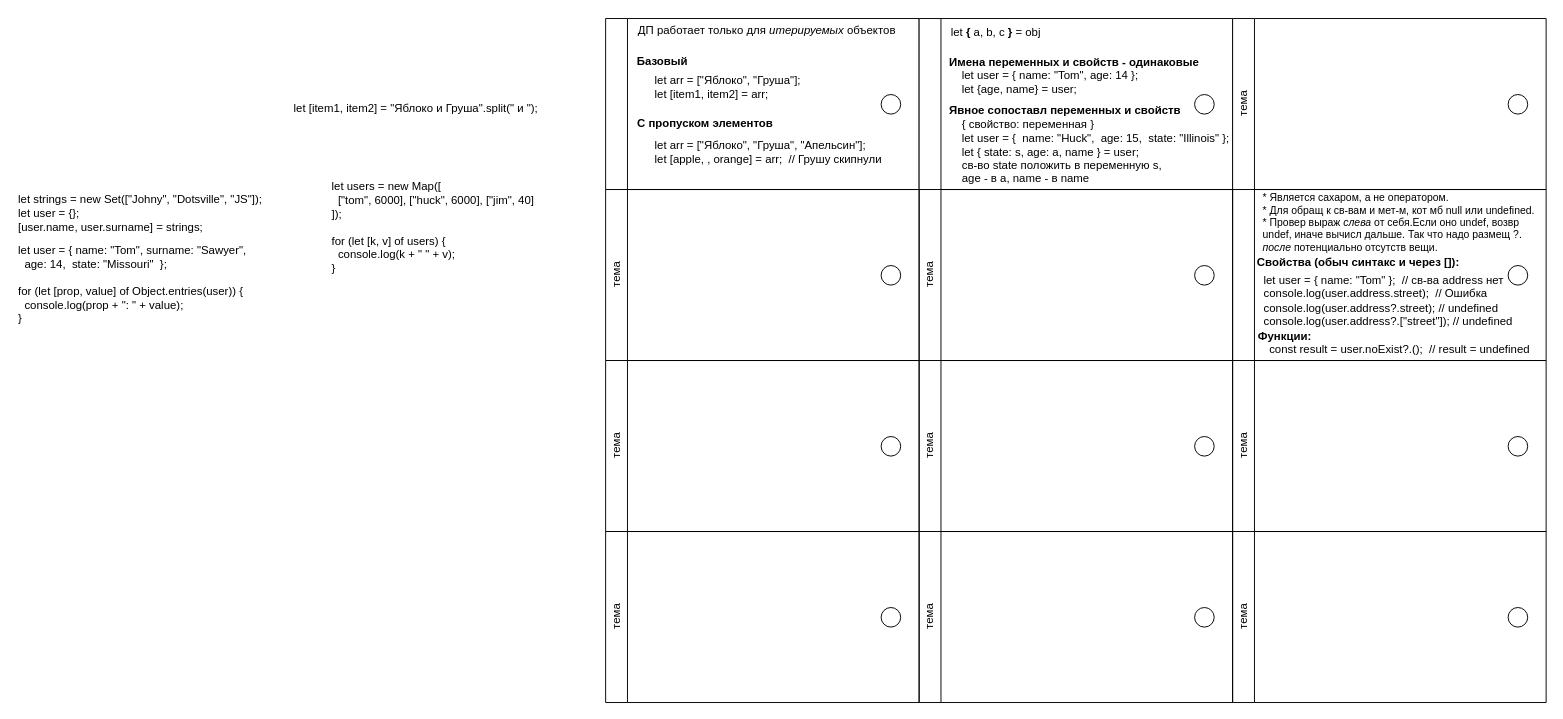
This 1563x719 diagram has some shape labels left out. Each missing label, with the box of its shape:
?. опциональная цепочка: (1232, 189, 1546, 361)
деструкт присв (массивы) (1): (605, 18, 919, 190)
деструкт присв (объекты) (2): (918, 18, 1233, 190)
